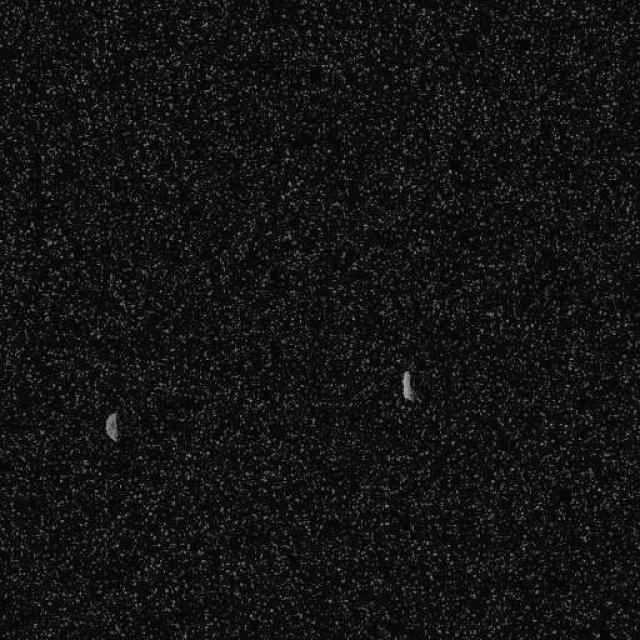D2: (400, 368, 416, 402), (104, 410, 120, 442)
